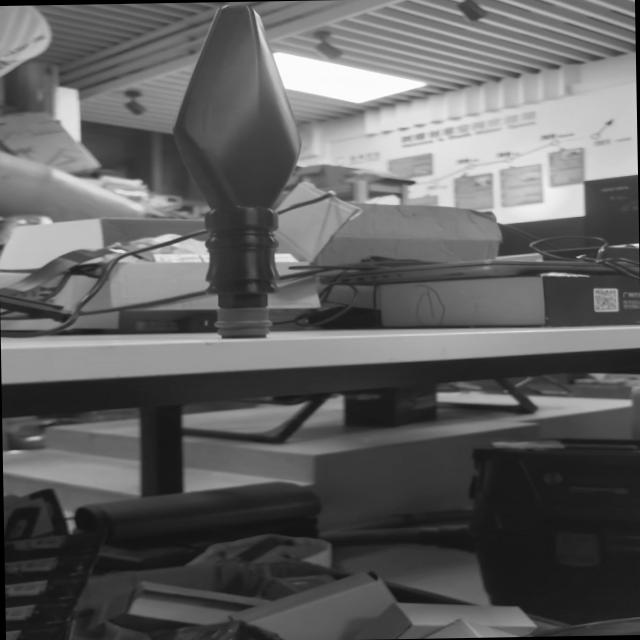base: (211, 304, 275, 337)
